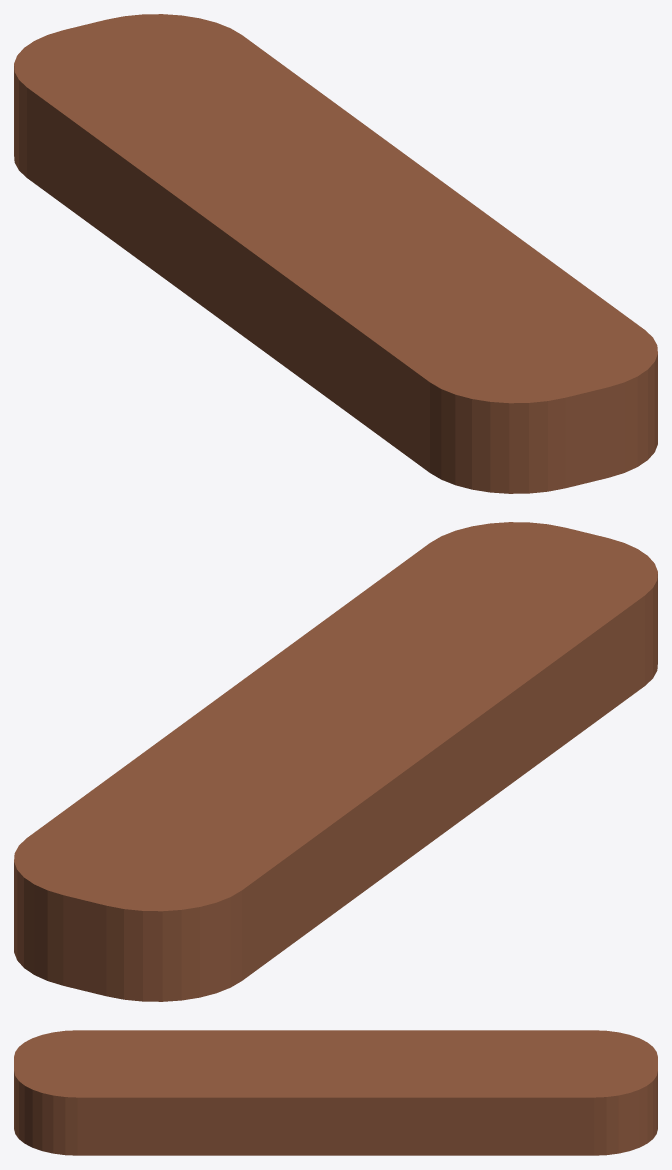
File: Rounded Cannon Ball Holder 3 Ball.fbx
The picture shows the model from 3 angles, top to bottom: view 1: azimuth 30°, elevation 25°; view 2: azimuth 150°, elevation 25°; view 3: azimuth 270°, elevation 25°; orthographic projection. The views are drawn at different scales.
Visible parts, largest first — view 1: Rounded Cannon Ball Holder 3 Ball; view 2: Rounded Cannon Ball Holder 3 Ball; view 3: Rounded Cannon Ball Holder 3 Ball.
Boxes of the visible parts, <box> form: Rounded Cannon Ball Holder 3 Ball: <box>14,14,657,493</box>; Rounded Cannon Ball Holder 3 Ball: <box>14,522,657,1001</box>; Rounded Cannon Ball Holder 3 Ball: <box>14,1030,657,1155</box>.
Size of the model in its own units: 250 by 101 by 1011.
